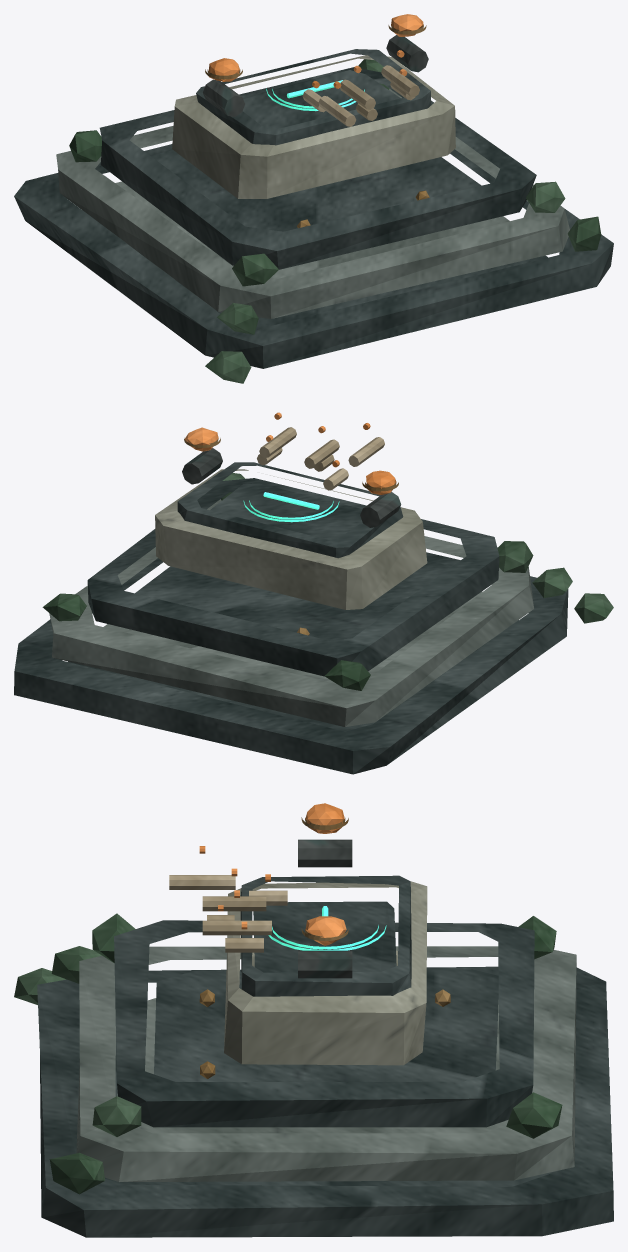
File: 0458_altar_08.glb
3 views of the same model, one above another, from view 1: azimuth 30°, elevation 25°; view 2: azimuth 150°, elevation 25°; view 3: azimuth 270°, elevation 25° (orthographic). The views are drawn at different scales.
Visible parts, largest first — view 1: stone_dark, stone, stone_light, moss, bone, iron, amber, glow, brass; view 2: stone_dark, stone, stone_light, moss, bone, iron, amber, glow; view 3: stone_dark, stone, stone_light, moss, bone, iron, amber, brass, glow.
Part boxes in pixels (x1,y1,x2,y2): stone_dark: [14, 49, 613, 368]; stone: [56, 88, 569, 318]; stone_light: [172, 55, 455, 198]; moss: [69, 59, 601, 383]; bone: [302, 65, 419, 126]; iron: [203, 35, 428, 116]; amber: [208, 14, 423, 88]; glow: [266, 80, 364, 111]; brass: [205, 24, 429, 228]; stone_dark: [14, 462, 568, 774]; stone: [49, 499, 533, 726]; stone_light: [155, 469, 427, 609]; moss: [42, 473, 613, 690]; bone: [257, 427, 384, 490]; iron: [182, 448, 401, 527]; amber: [184, 412, 396, 494]; glow: [243, 492, 339, 522]; stone_dark: [37, 875, 613, 1237]; stone: [76, 946, 576, 1182]; stone_light: [224, 881, 427, 1065]; moss: [14, 913, 562, 1194]; bone: [169, 875, 287, 952]; iron: [298, 839, 352, 978]; amber: [199, 803, 346, 945]; brass: [199, 817, 450, 1078]; glow: [268, 906, 386, 950].
Size of the model in its own units: 2.64 by 1.27 by 2.65.
9 materials, 9 textured.
